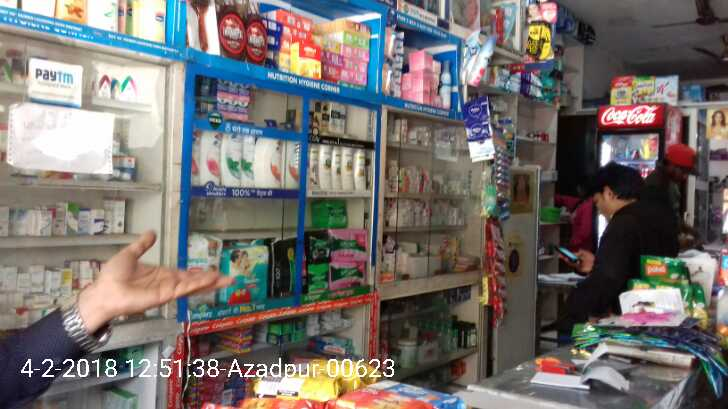vicks: (201, 76, 252, 124)
